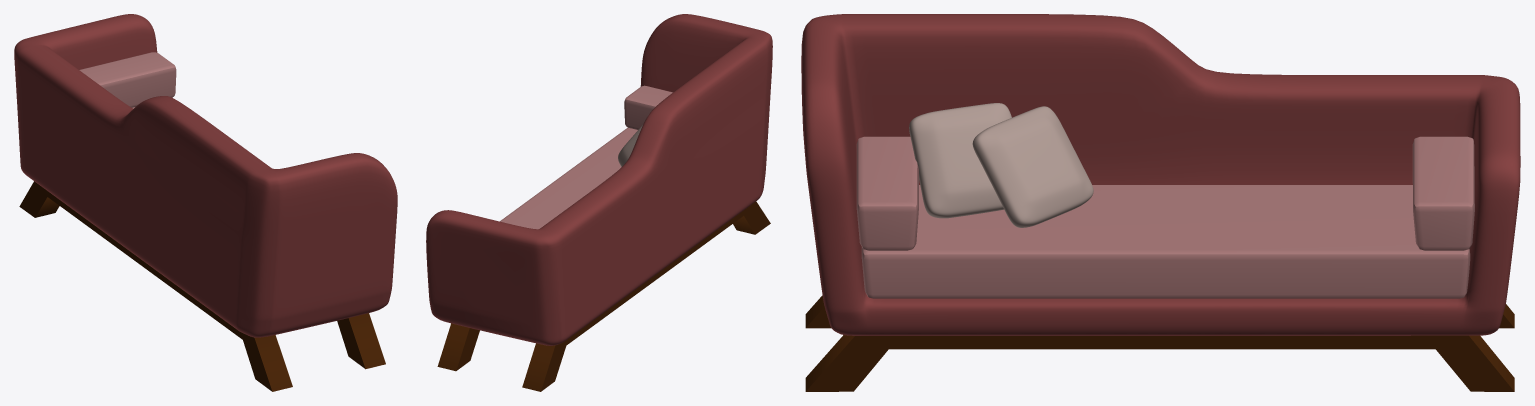
Rendered from Couch.fbx.
3 views of the same model, side by side, from view 1: azimuth 30°, elevation 25°; view 2: azimuth 150°, elevation 25°; view 3: azimuth 270°, elevation 25° (orthographic). The views are drawn at different scales.
Visible parts, largest first — view 1: pCube1, pasted__pCube3, pasted__pasted__pCube2, pCube3; view 2: pCube1, pasted__pasted__pCube2, pasted__pCube3, pCube3, pasted__pCube4; view 3: pCube1, pasted__pasted__pCube2, pasted__pCube4, pCube3, pasted__pCube3.
Part boxes in pixels (bbox=[...]): pCube1: bbox=[14, 14, 397, 337]; pasted__pCube3: bbox=[19, 181, 292, 391]; pasted__pasted__pCube2: bbox=[79, 52, 176, 108]; pCube3: bbox=[337, 313, 385, 369]; pCube1: bbox=[426, 14, 772, 345]; pasted__pasted__pCube2: bbox=[500, 85, 672, 229]; pasted__pCube3: bbox=[522, 201, 770, 391]; pCube3: bbox=[437, 323, 479, 371]; pasted__pCube4: bbox=[618, 124, 643, 166]; pCube1: bbox=[801, 14, 1520, 335]; pasted__pasted__pCube2: bbox=[856, 136, 1474, 298]; pasted__pCube4: bbox=[909, 103, 1093, 227]; pCube3: bbox=[805, 335, 1514, 391]; pasted__pCube3: bbox=[805, 295, 1514, 328].
Bounding box in the file's own units: 5.02 × 7.15 × 15.67.
